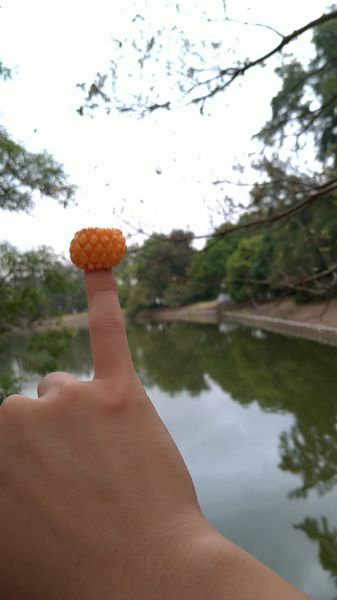eggs: (70, 227, 128, 271)
